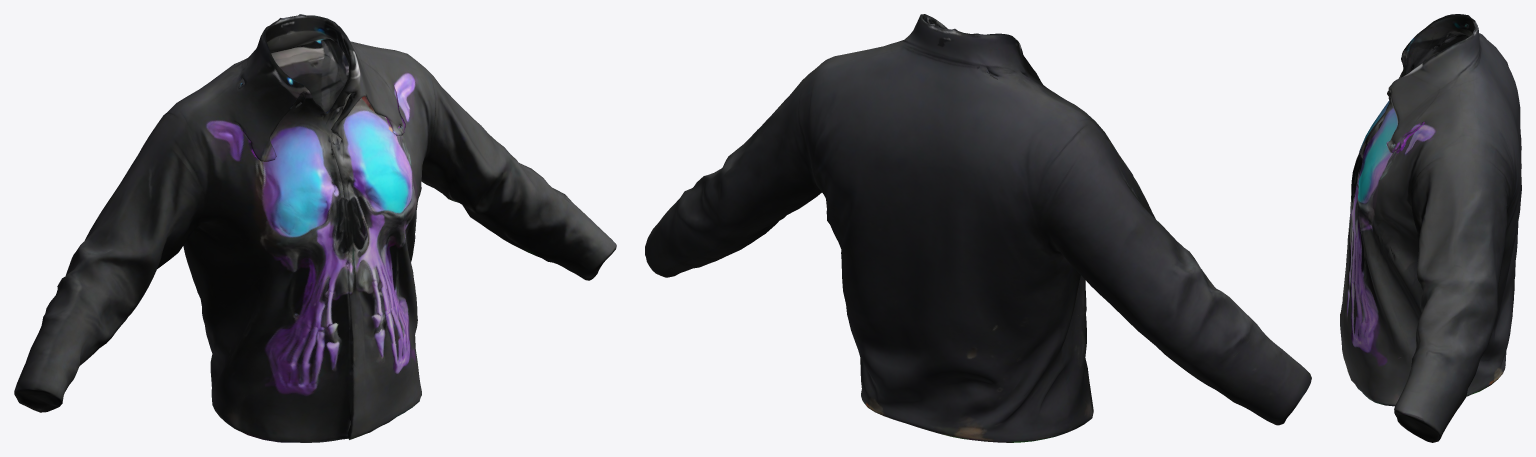
Rendered from shirt_rig1.glb.
The picture shows the model from 3 angles, left to right: view 1: azimuth 30°, elevation 25°; view 2: azimuth 150°, elevation 25°; view 3: azimuth 270°, elevation 25°; orthographic projection. The views are drawn at different scales.
Parts seen in each view (by area): view 1: I_want_to_create_a_sh_0309210101_texture; view 2: I_want_to_create_a_sh_0309210101_texture; view 3: I_want_to_create_a_sh_0309210101_texture.
Boxes of the visible parts, x1,y1,x2,y2 form: I_want_to_create_a_sh_0309210101_texture: (14, 14, 616, 442); I_want_to_create_a_sh_0309210101_texture: (645, 14, 1311, 442); I_want_to_create_a_sh_0309210101_texture: (1340, 14, 1521, 442).
Bounding box in the file's own units: 4.99 × 3.01 × 1.41.
Materials: 1 (1 with a texture image).
